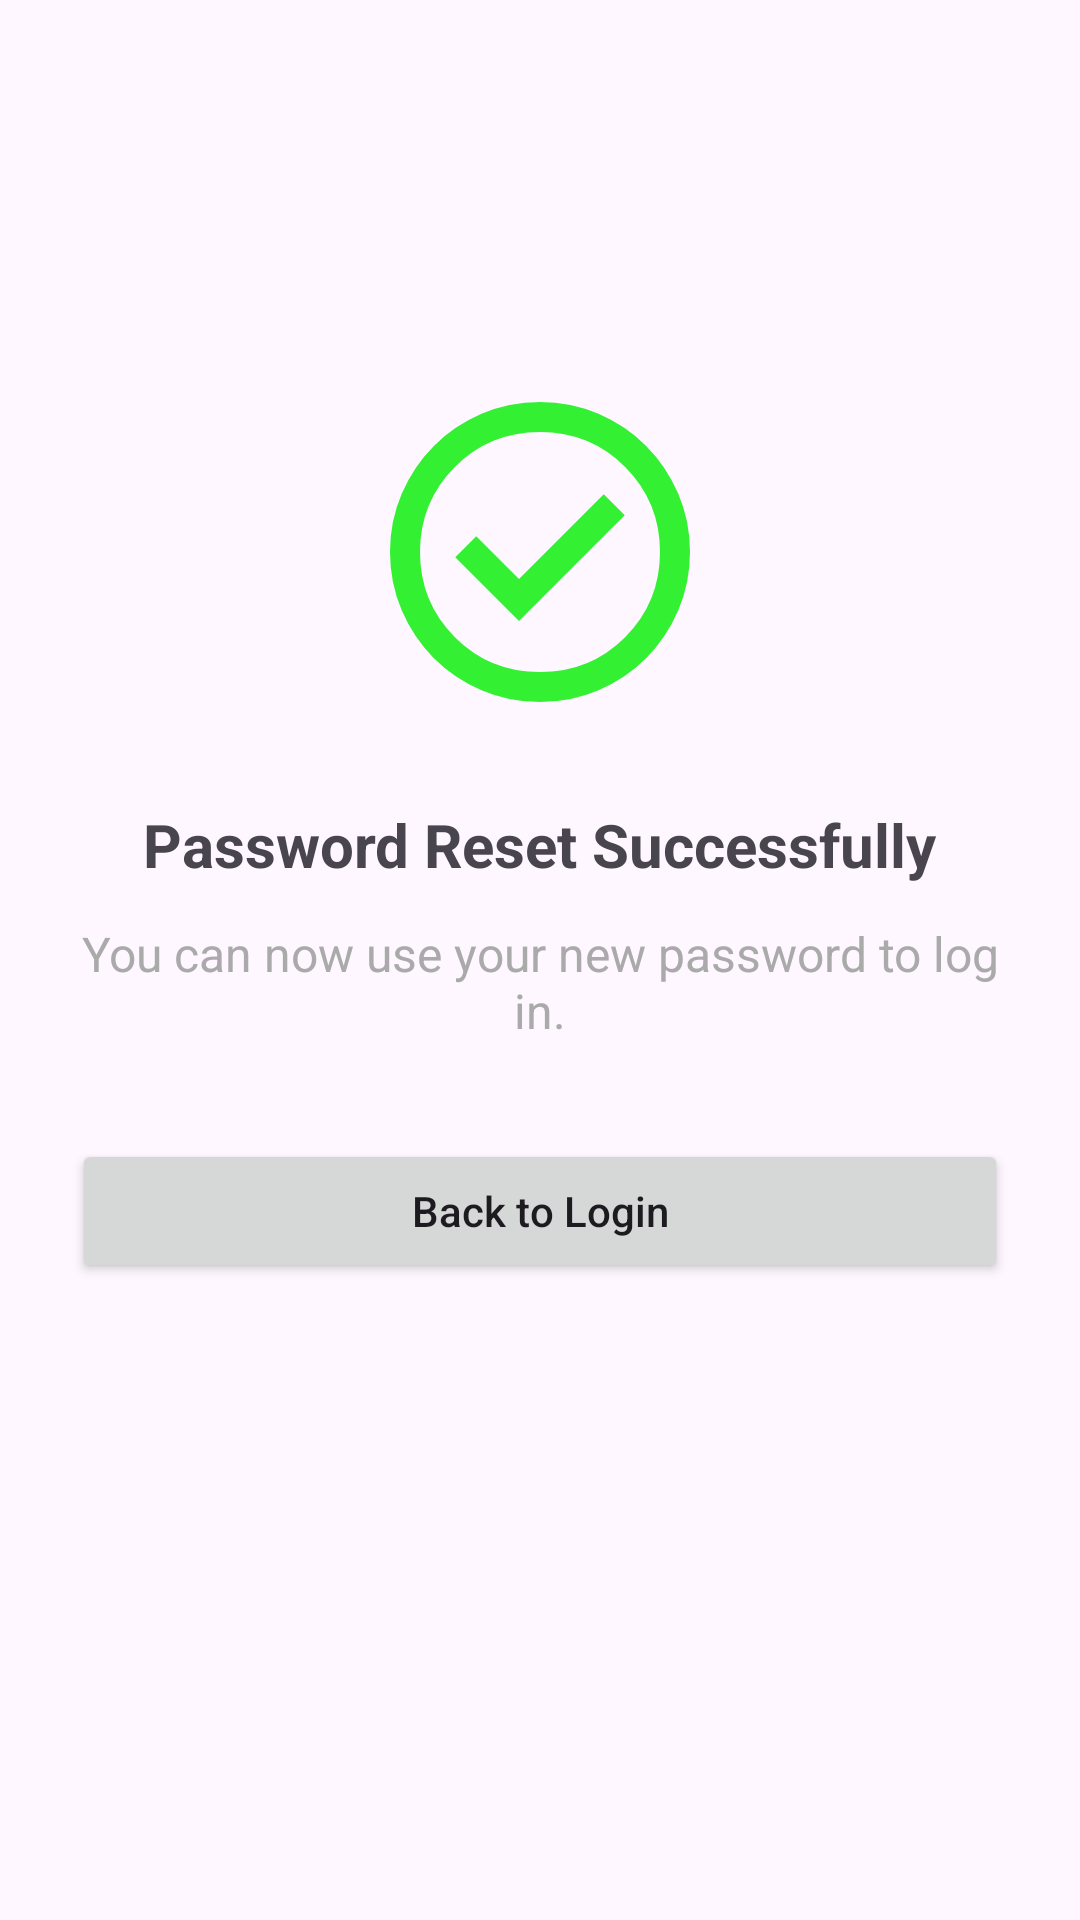

Icons on this 1080w x 1920h Android screen, each with its box as {"x1": x1, "y1": y1, "x2": x2, "y2": y2}:
Success Icon: {"x1": 390, "y1": 402, "x2": 690, "y2": 702}
